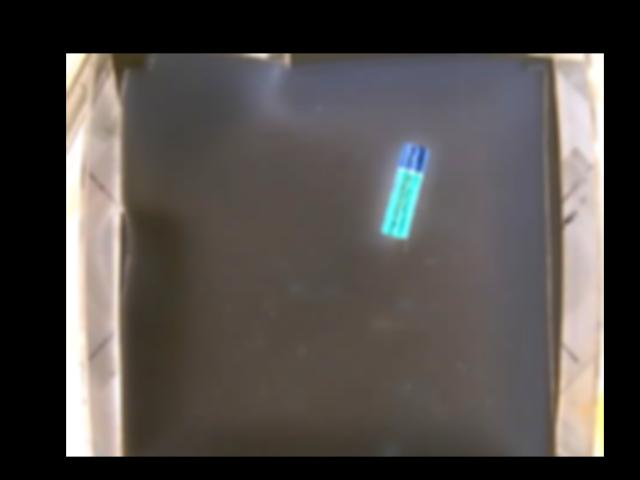Battery: (380, 141, 429, 239)
